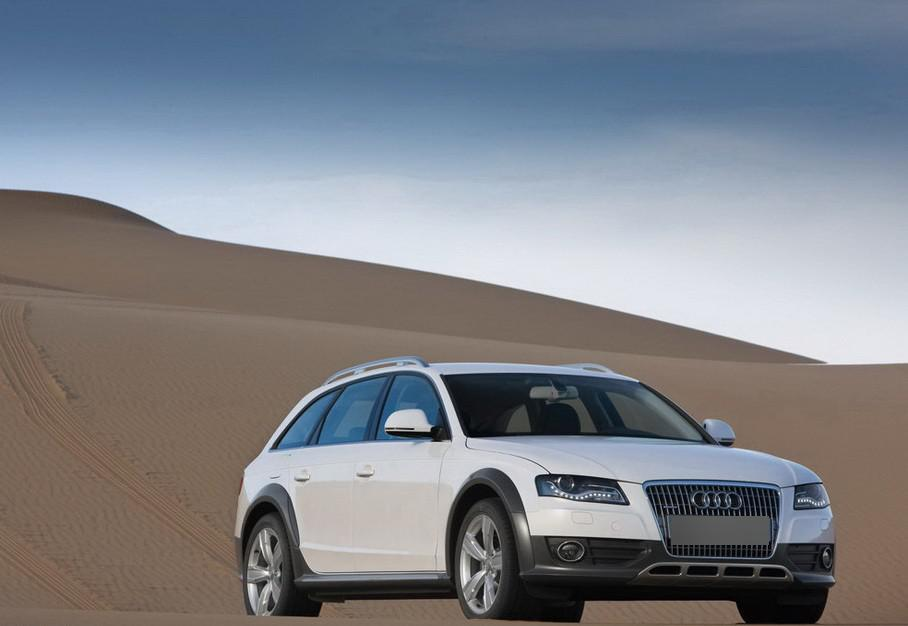Wagon: (233, 355, 838, 626)
